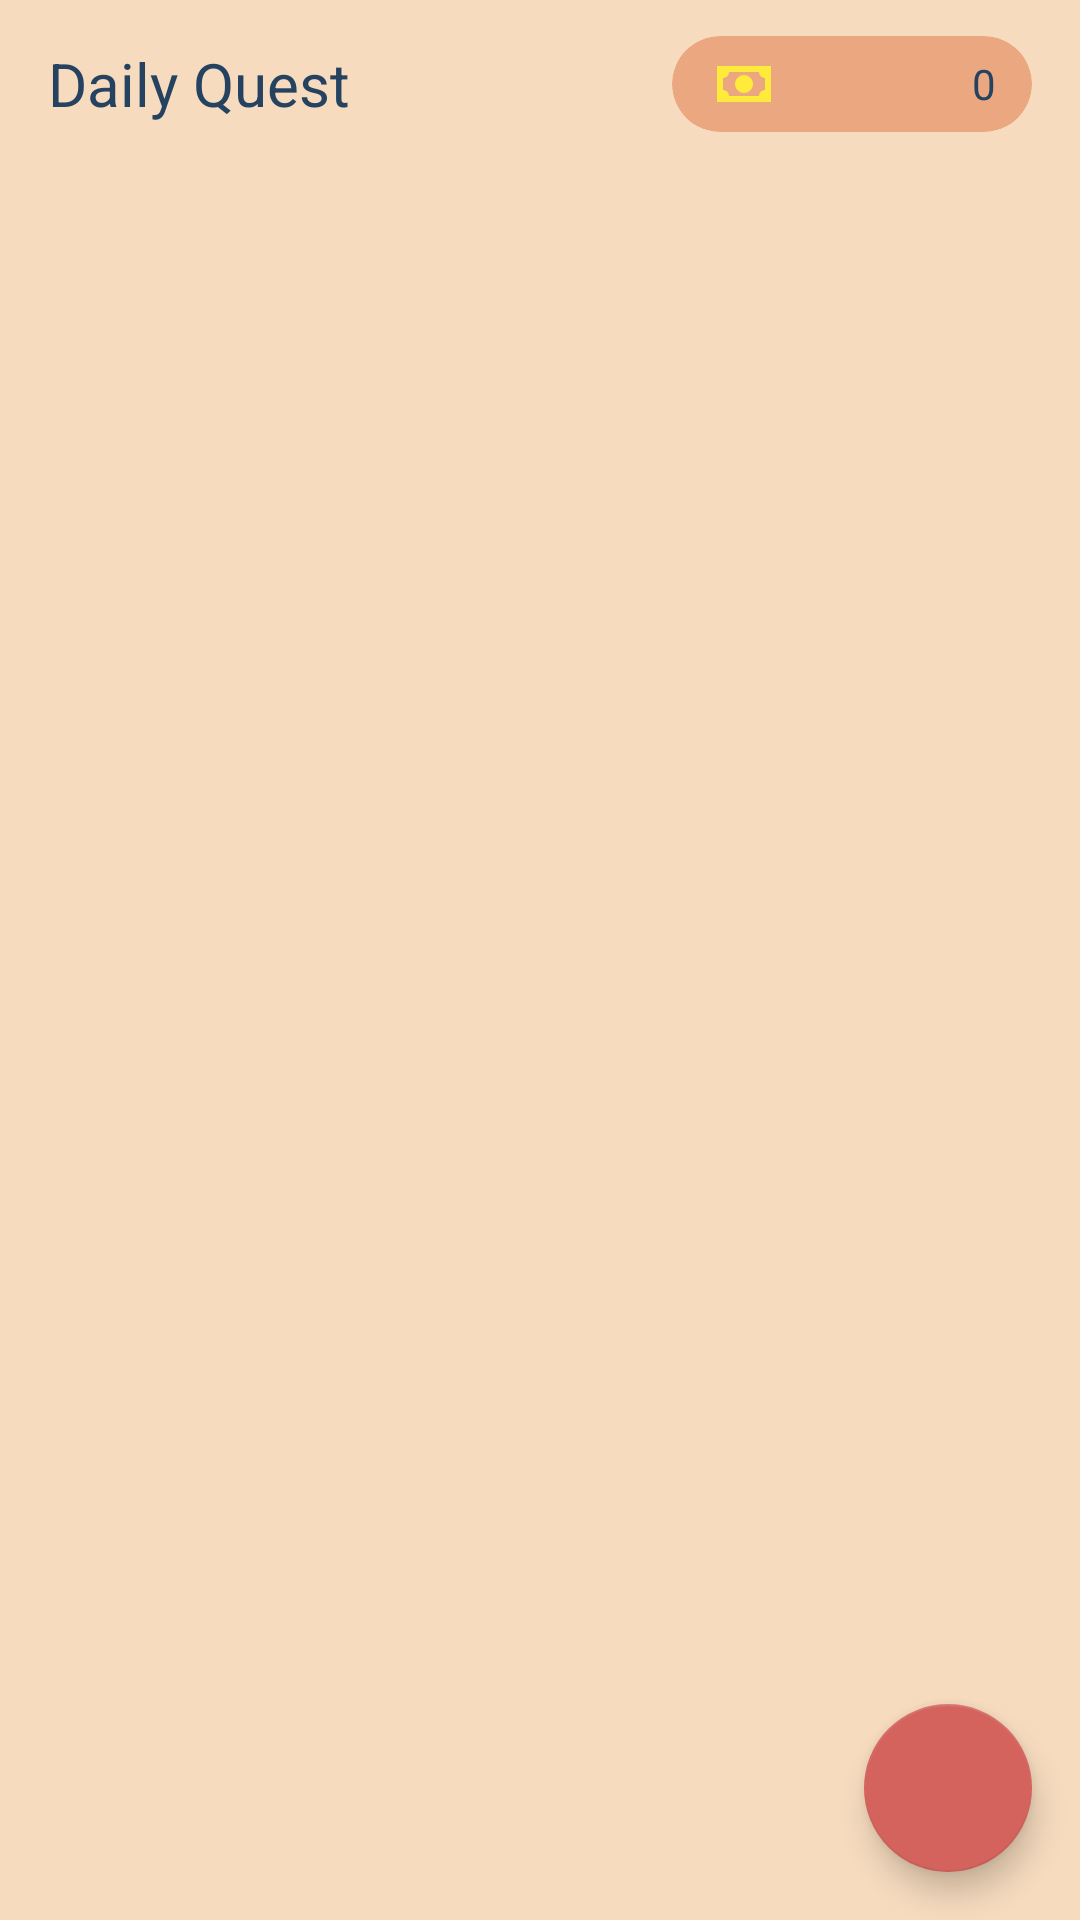

Icons on this 1080*1920 Android screen, each with the point to tap as (x,y):
cash: (744,84)
